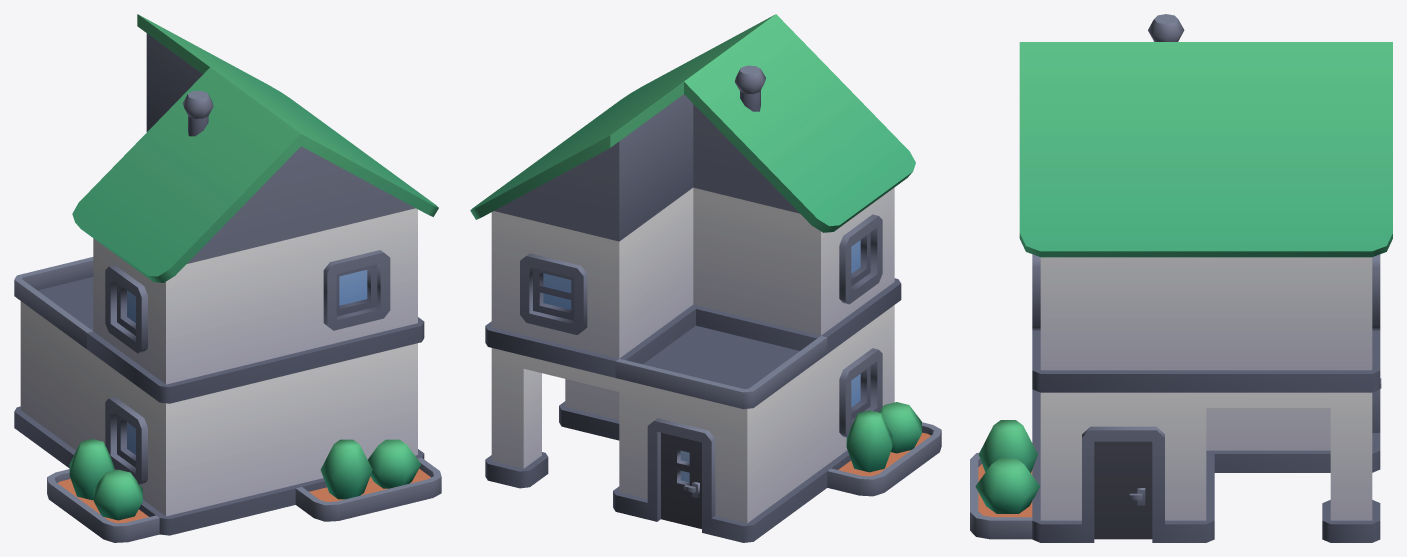
Rendered from kenney-city-suburban-building-type-r.glb.
3 renders of one model, left to right at view 1: azimuth 30°, elevation 25°; view 2: azimuth 150°, elevation 25°; view 3: azimuth 270°, elevation 25°, orthographic. The views are drawn at different scales.
Parts seen in each view (by area): view 1: building-type-r; view 2: building-type-r; view 3: building-type-r.
Part boxes in pixels (box(x1,y1,x2,y2)): building-type-r: box(14, 14, 441, 542); building-type-r: box(470, 14, 941, 542); building-type-r: box(970, 14, 1392, 542).
Bounding box in the file's own units: 1.03 × 1.14 × 1.02.
Materials: 1 (1 with a texture image).
